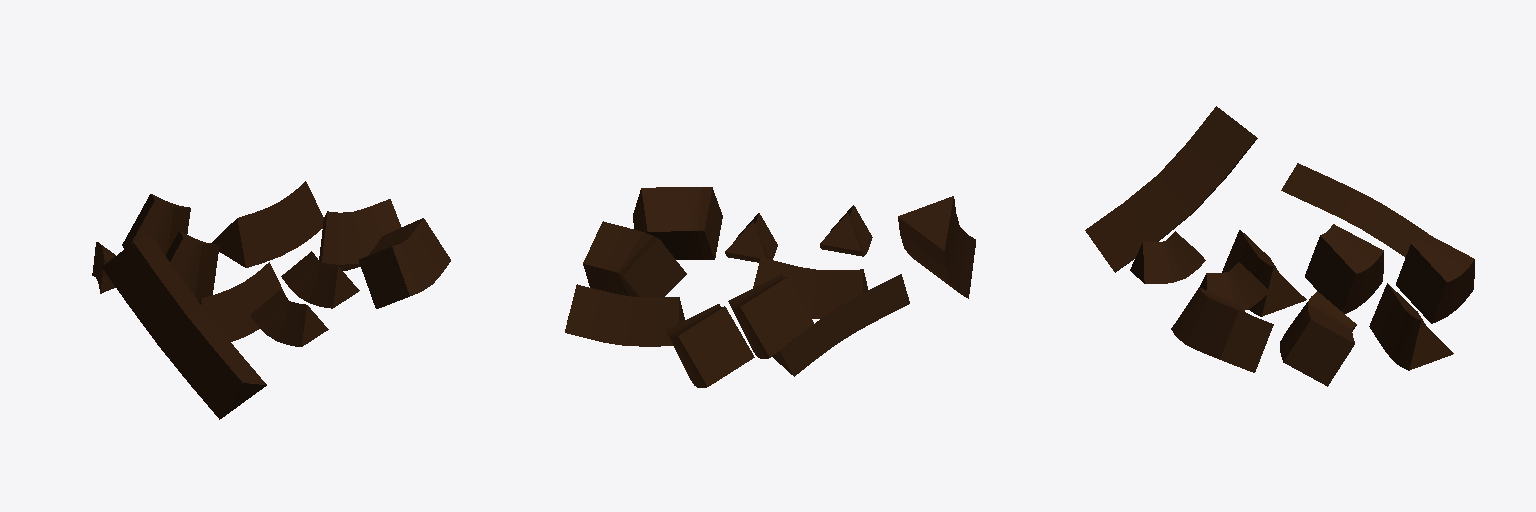
File: bonfire5.obj
3 views of the same model, side by side, from view 1: azimuth 30°, elevation 25°; view 2: azimuth 150°, elevation 25°; view 3: azimuth 270°, elevation 25° (orthographic).
Visible parts, largest first — view 1: Wick4, Wick6, Wick2_1, Wick6_1, Wick2, Wick1_1, Wick1, Wick3, Wick3_1, Wick5; view 2: Wick6_1, Wick2_1, Wick6, Wick4, Wick5, Wick3_1, Wick3, Wick2, Wick1_1, Wick1; view 3: Wick4, Wick6, Wick3_1, Wick3, Wick5, Wick6_1, Wick2_1, Wick2, Wick1_1, Wick1.
Part boxes in pixels (x1,y1,x2,y2): Wick4: (102,234,266,419); Wick6: (359,218,450,308); Wick2_1: (211,181,323,267); Wick6_1: (319,199,401,270); Wick2: (199,262,285,341); Wick1_1: (250,290,328,346); Wick1: (281,251,359,308); Wick3: (166,231,219,300); Wick3_1: (122,194,190,255); Wick5: (92,242,115,293); Wick6_1: (583,221,686,296); Wick2_1: (565,284,684,346); Wick6: (633,187,722,259); Wick4: (898,196,975,298); Wick5: (772,274,909,376); Wick3_1: (666,304,754,387); Wick3: (728,274,813,358); Wick2: (753,257,867,318); Wick1_1: (820,205,872,256); Wick1: (725,213,777,262); Wick4: (1085,106,1257,272); Wick6: (1171,287,1273,372); Wick3_1: (1396,232,1474,323); Wick3: (1305,224,1383,313); Wick5: (1281,163,1427,257); Wick6_1: (1280,291,1356,386); Wick2_1: (1369,283,1453,370); Wick2: (1222,230,1306,316); Wick1_1: (1130,231,1205,283); Wick1: (1200,262,1268,310).
Size of the model in its own units: 0.7696 by 0.3322 by 0.7863.